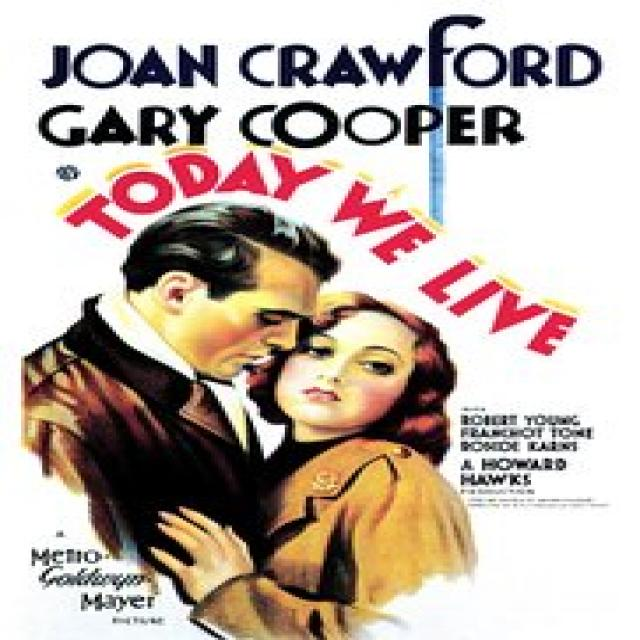movie-judul: (54, 143, 585, 361)
picture: (21, 203, 477, 640)
